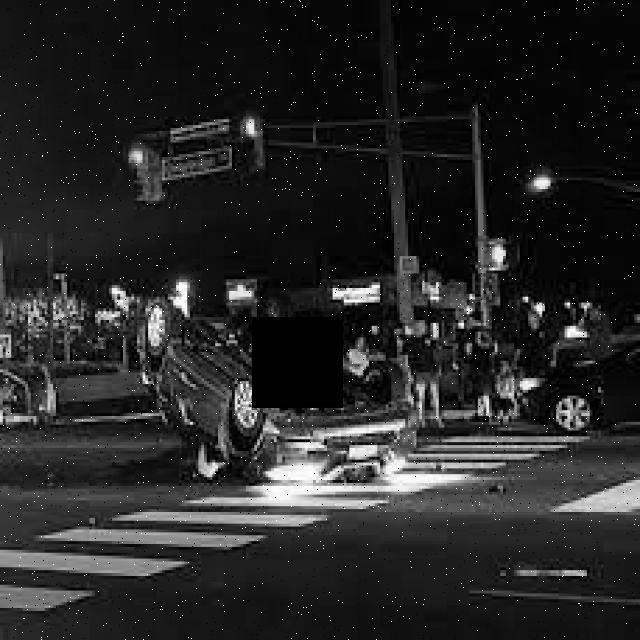accident: (150, 303, 421, 481)
vehicle: (520, 337, 640, 441)
